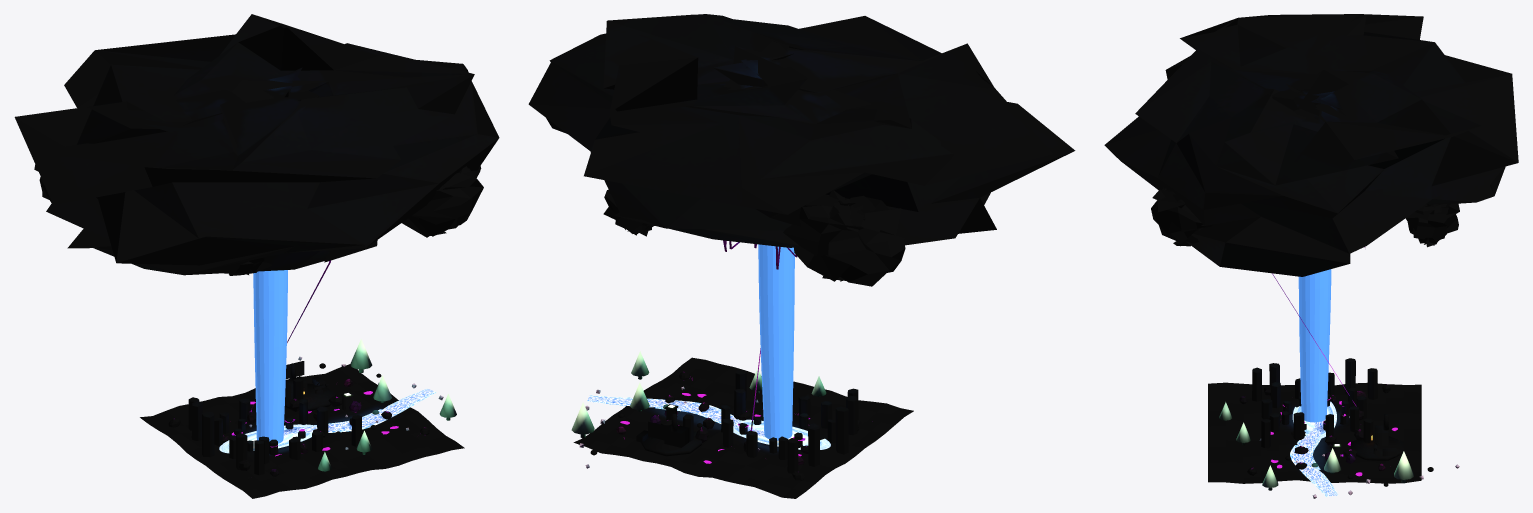
The model's file is landmark-skills.glb.
3 renders of one model, left to right at view 1: azimuth 30°, elevation 25°; view 2: azimuth 150°, elevation 25°; view 3: azimuth 270°, elevation 25°, orthographic. The views are drawn at different scales.
Visible parts, largest first — view 1: skl_ground_merged, skl_waterfall_main, skl_organics_merged, skl_forge_merged, skl_greenery_trees, skl_river_v2; view 2: skl_ground_merged, skl_waterfall_main, skl_forge_merged, skl_organics_merged, skl_greenery_trees, skl_river_v2, skl_plunge_pool_v2; view 3: skl_ground_merged, skl_waterfall_main, skl_forge_merged, skl_organics_merged, skl_river_v2, skl_greenery_trees.
Part boxes in pixels (bbox=[...]): skl_ground_merged: bbox=[14, 14, 499, 498]; skl_waterfall_main: bbox=[253, 270, 287, 443]; skl_organics_merged: bbox=[168, 260, 429, 479]; skl_forge_merged: bbox=[284, 361, 353, 411]; skl_greenery_trees: bbox=[318, 339, 456, 471]; skl_river_v2: bbox=[283, 388, 436, 435]; skl_ground_merged: bbox=[528, 14, 1075, 498]; skl_waterfall_main: bbox=[758, 244, 794, 440]; skl_forge_merged: bbox=[636, 404, 701, 456]; skl_organics_merged: bbox=[616, 240, 875, 480]; skl_greenery_trees: bbox=[571, 351, 826, 438]; skl_river_v2: bbox=[587, 395, 764, 436]; skl_plunge_pool_v2: bbox=[733, 419, 830, 449]; skl_ground_merged: bbox=[1104, 14, 1518, 483]; skl_waterfall_main: bbox=[1298, 269, 1331, 422]; skl_forge_merged: bbox=[1332, 414, 1403, 461]; skl_organics_merged: bbox=[1239, 247, 1397, 476]; skl_river_v2: bbox=[1290, 420, 1338, 496]; skl_greenery_trees: bbox=[1219, 402, 1413, 490].
Bounding box in the file's own units: 55.09 × 42.4 × 46.55.
Materials: 15 (10 with a texture image).
